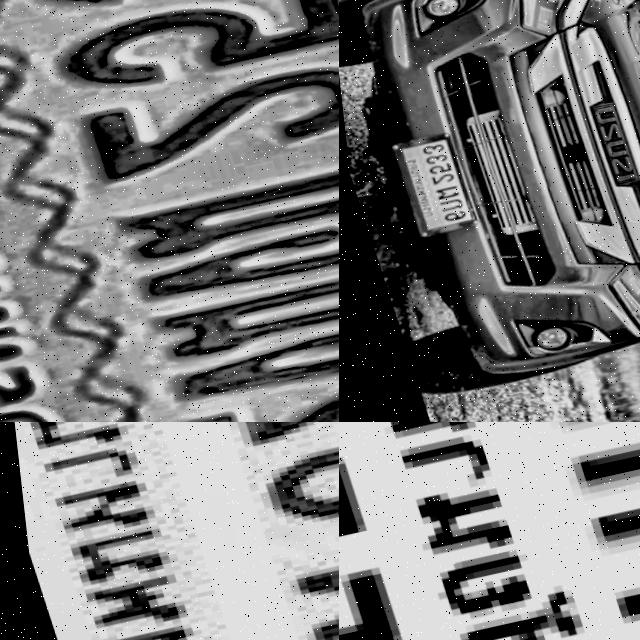license-plate: (0, 0, 339, 422), (0, 422, 339, 640), (339, 422, 640, 640), (375, 126, 480, 241)
